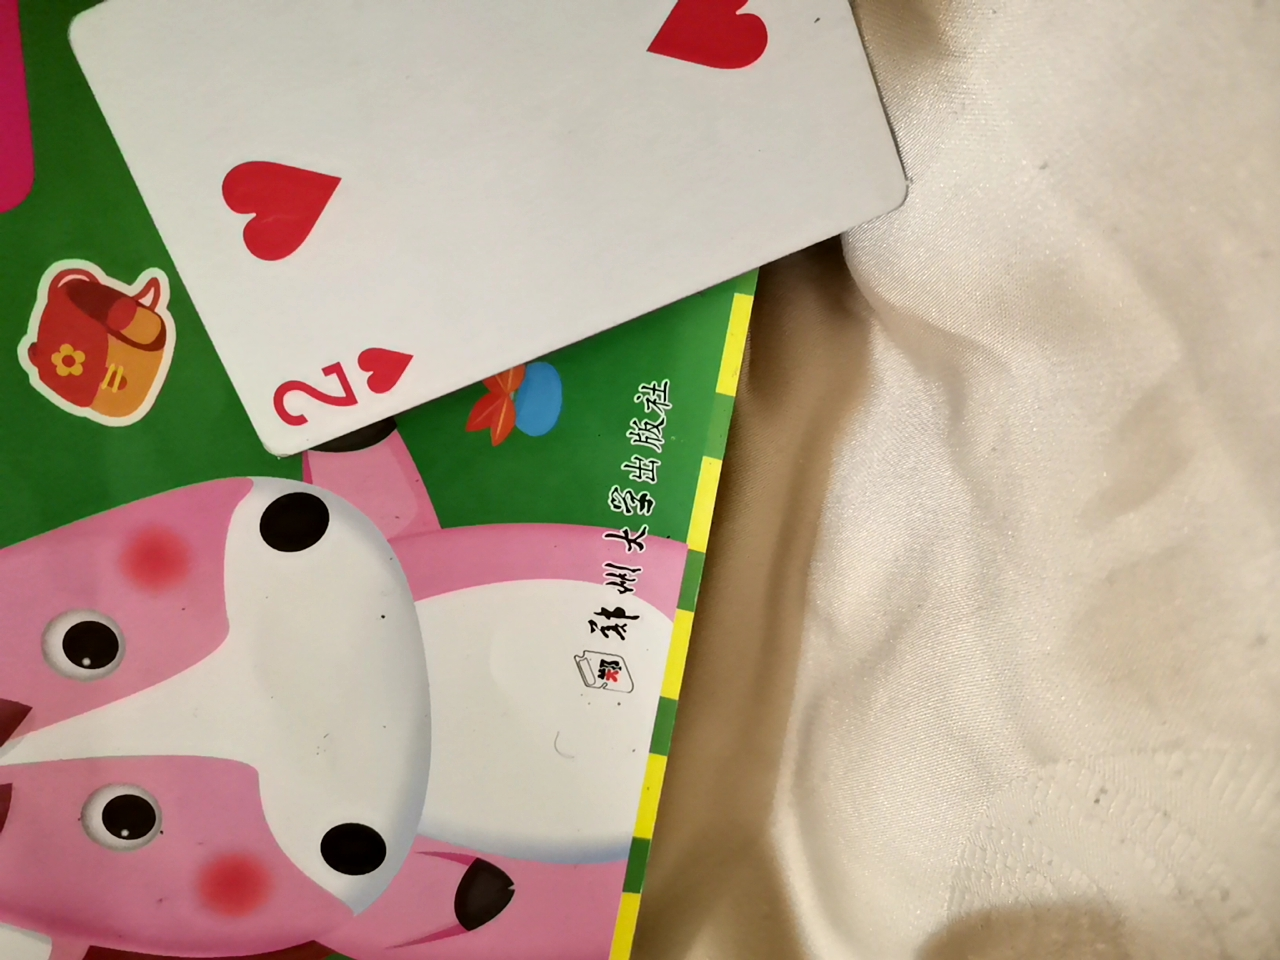hx 2: (40, 0, 900, 440)
